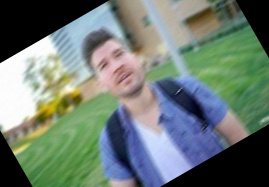earphone: (96, 78, 110, 96), (133, 52, 146, 69)
